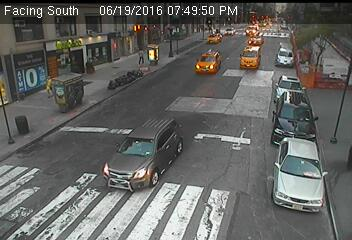neg: (327, 115, 351, 147), (80, 54, 96, 74), (295, 50, 308, 67), (173, 26, 179, 34)
pos: (133, 46, 147, 64)
